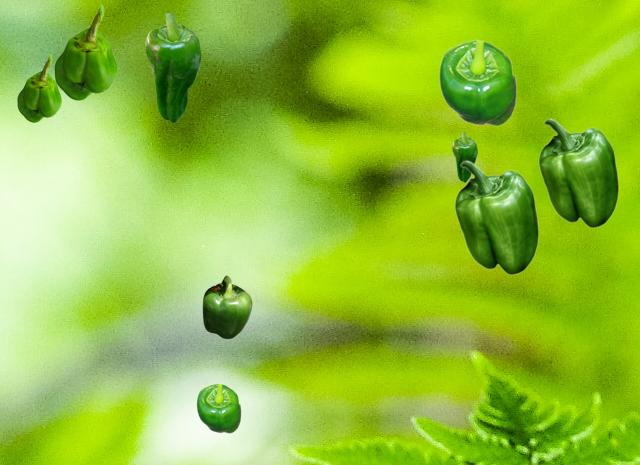bell_pepper: (454, 160, 538, 274), (538, 118, 618, 227), (438, 39, 516, 125), (145, 13, 200, 122), (54, 4, 116, 99), (202, 275, 251, 338), (17, 54, 60, 121), (196, 383, 240, 432), (452, 132, 476, 181)
